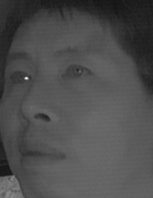eye: (58, 62, 98, 84), (5, 68, 33, 88)
mouth: (18, 135, 68, 171)
